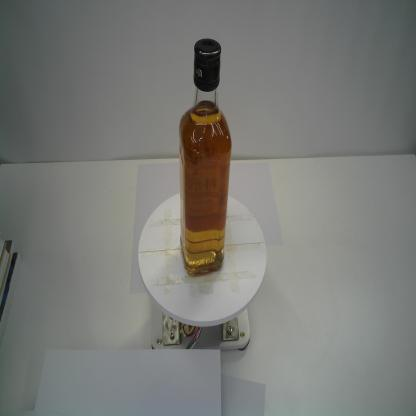Seasoner: (178, 37, 233, 278)
